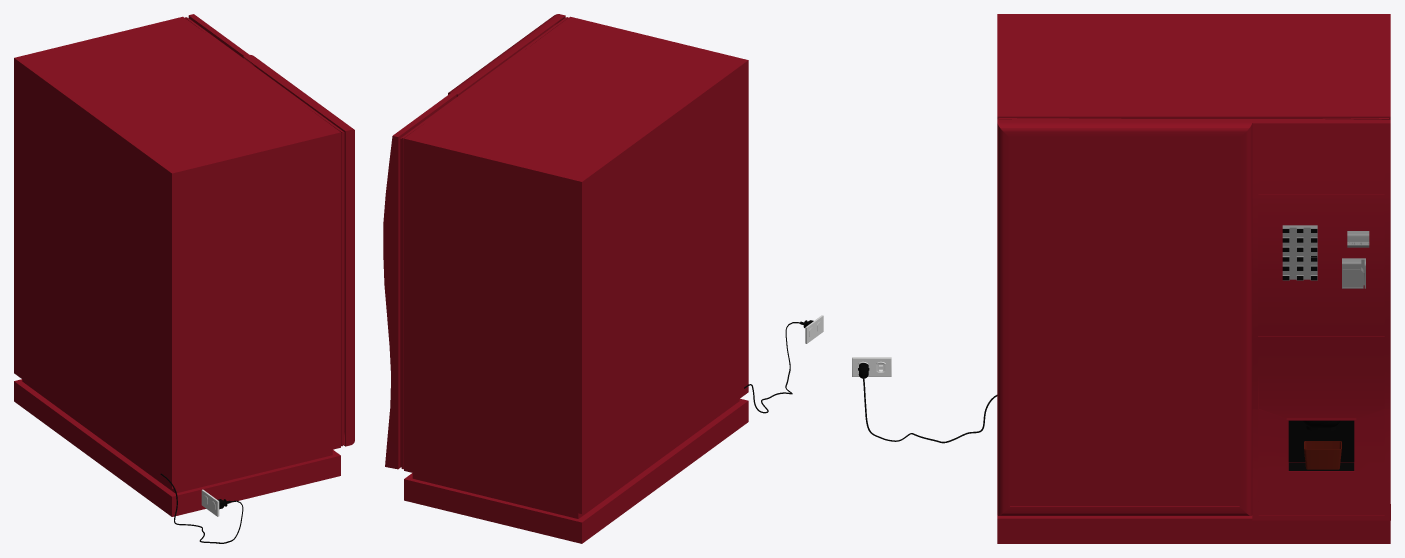
The model's file is dispensador de bebidas.glb.
3 views of the same model, side by side, from view 1: azimuth 30°, elevation 25°; view 2: azimuth 150°, elevation 25°; view 3: azimuth 270°, elevation 25° (orthographic). The views are drawn at different scales.
Parts seen in each view (by area): view 1: snaks_machine; view 2: snaks_machine; view 3: snaks_machine.
Boxes of the visible parts, x1,y1,x2,y2 form: snaks_machine: (14, 14, 354, 543); snaks_machine: (383, 14, 823, 543); snaks_machine: (852, 14, 1390, 543).
Size of the model in its own units: 3.37 by 5.27 by 6.03.
